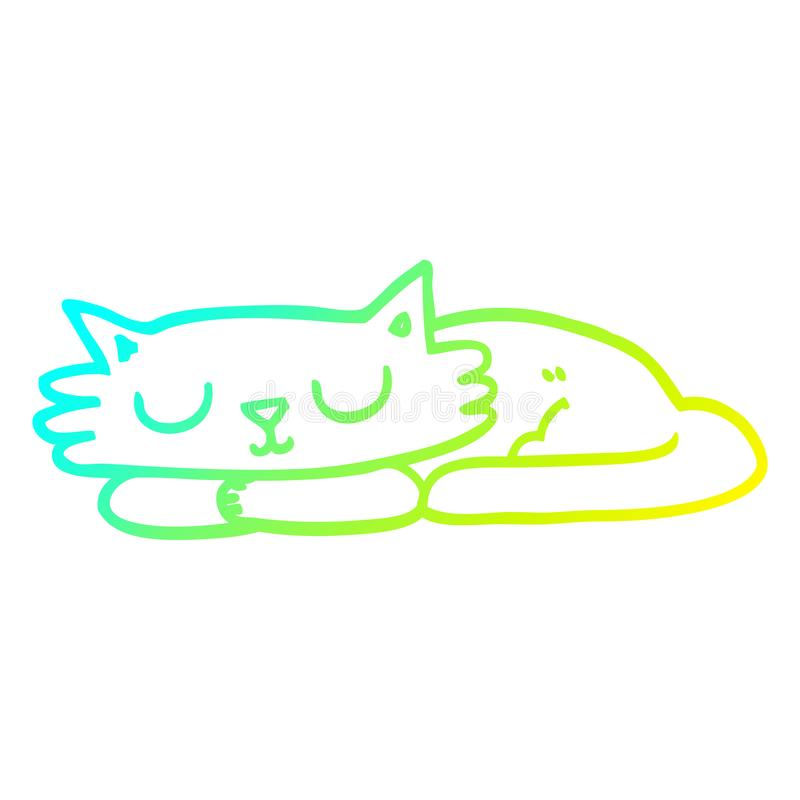cat: (28, 254, 785, 586)
